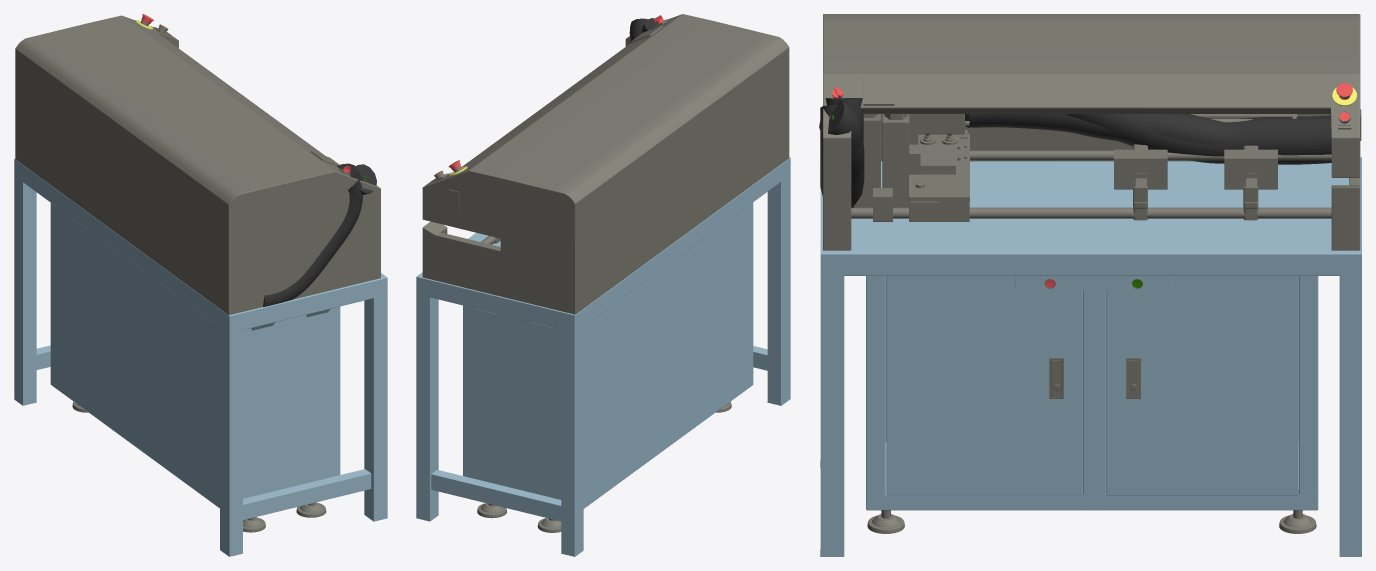
File: Furniture01.fbx
3 renders of one model, left to right at view 1: azimuth 30°, elevation 25°; view 2: azimuth 150°, elevation 25°; view 3: azimuth 270°, elevation 25°, orthographic. The views are drawn at different scales.
Visible parts, largest first — view 1: 对象001; view 2: 对象001; view 3: 对象001.
Boxes of the visible parts, bbox=[...] form: 对象001: bbox=[14, 14, 387, 556]; 对象001: bbox=[416, 14, 790, 556]; 对象001: bbox=[819, 14, 1361, 556].
Bounding box in the file's own units: 70.89 × 154 × 167.
